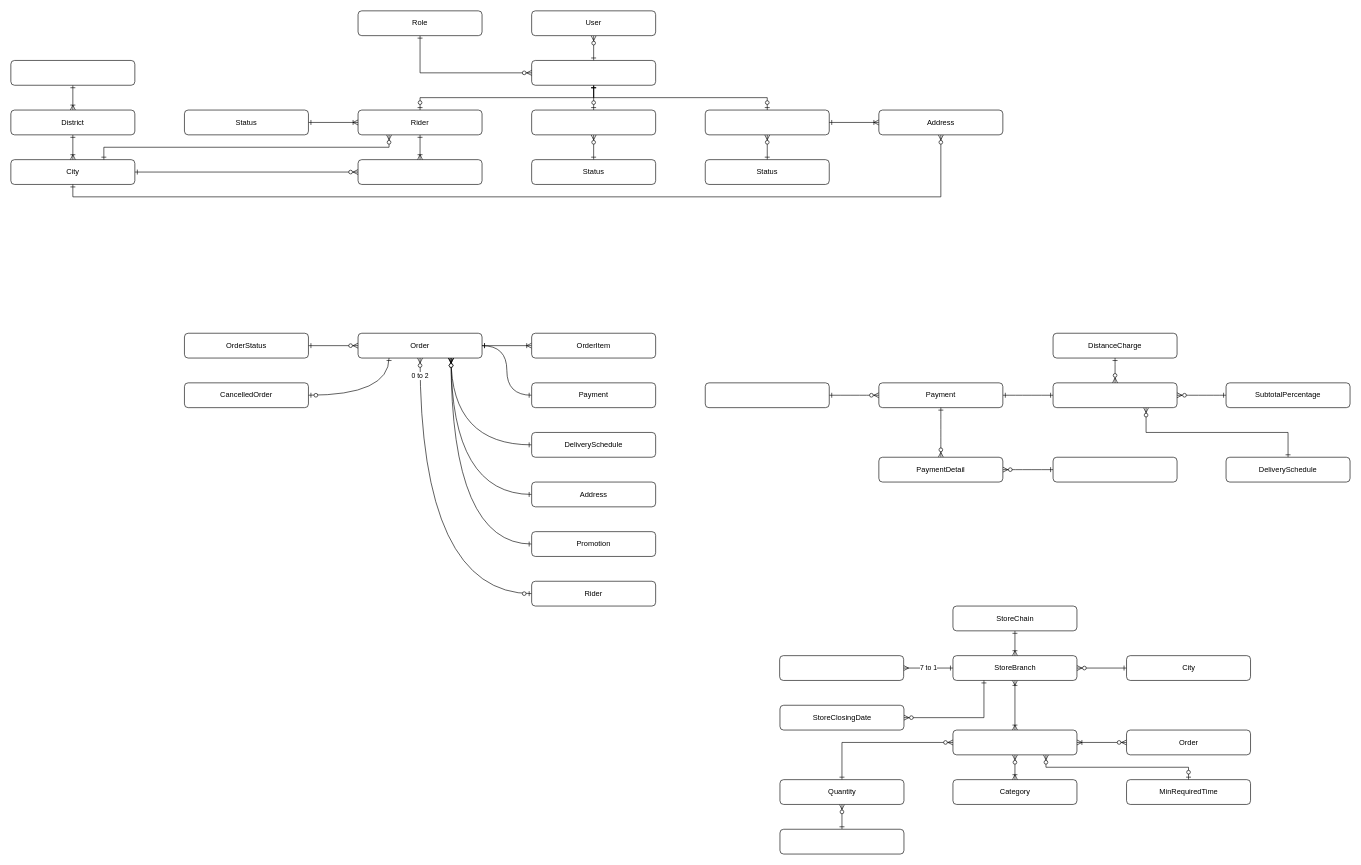
This 1361x865 diagram has some shape labels left out. Each missing label, with the centre of its shape:
Customer: the point at 767,122
DeliveryCharge: the point at 1114,395
Item: the point at 1014,742
Manager: the point at 593,122
PaymentMethod: the point at 1114,469
PaymentStatus: the point at 767,395
Province: the point at 72,72
RiderCoverage: the point at 419,171
StoreOpenDay: the point at 841,667
Unit: the point at 841,841
UserRole: the point at 593,72
